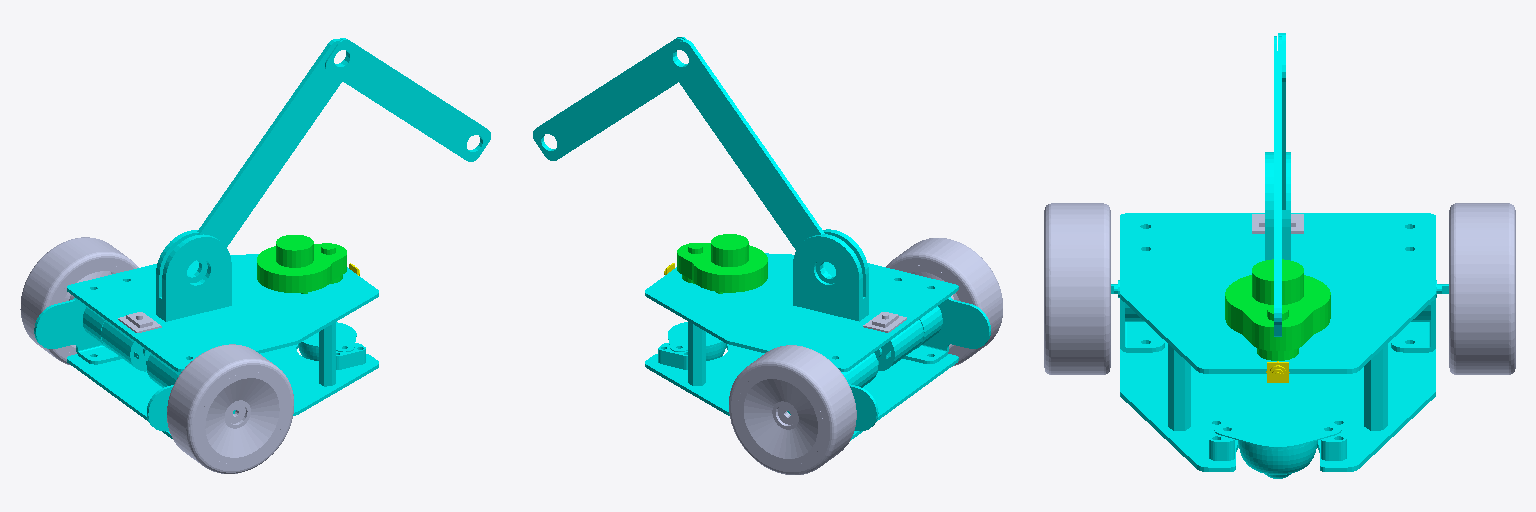
robot.urdf — xerobotvisai2:
<?xml version="1.0" encoding="utf-8"?>
<!-- This URDF was automatically created by SolidWorks to URDF Exporter! Originally created by [author] ([email redacted]) 
     Commit Version: 1.6.0-4-g7f85cfe  Build Version: 1.6.7995.38578
     For more information, please see http://wiki.ros.org/sw_urdf_exporter -->
<robot
  name="xerobotvisai2">
  <link
    name="base_link">
    <inertial>
      <origin
        xyz="-0.00884003371869591 -1.69144292938572E-06 0.023380316286157"
        rpy="0 0 0" />
      <mass
        value="0.139616230876785" />
      <inertia
        ixx="7.5183979078754E-05"
        ixy="-2.38192654544776E-10"
        ixz="-4.01410400424682E-09"
        iyy="8.90639372566359E-05"
        iyz="1.37636143194086E-09"
        izz="0.000152236942898235" />
    </inertial>
    <visual>
      <origin
        xyz="0 0 0"
        rpy="0 0 0" />
      <geometry>
        <mesh
          filename="package://xerobotvisai2/meshes/base_link.STL" />
      </geometry>
      <material
        name="">
        <color
          rgba="0 1 1 1" />
      </material>
    </visual>
    <collision>
      <origin
        xyz="0 0 0"
        rpy="0 0 0" />
      <geometry>
        <mesh
          filename="package://xerobotvisai2/meshes/base_link.STL" />
      </geometry>
    </collision>
  </link>
  <link
    name="trai_link">
    <inertial>
      <origin
        xyz="4.32986979603811E-15 4.71844785465692E-16 -0.00925124739800048"
        rpy="0 0 0" />
      <mass
        value="0.0508844489509995" />
      <inertia
        ixx="2.01105522645016E-05"
        ixy="6.35274710440725E-22"
        ixz="-5.50571415715295E-21"
        iyy="2.01105522645016E-05"
        iyz="6.88214269644119E-21"
        izz="3.52318436020648E-05" />
    </inertial>
    <visual>
      <origin
        xyz="0 0 0"
        rpy="0 0 0" />
      <geometry>
        <mesh
          filename="package://xerobotvisai2/meshes/trai_link.STL" />
      </geometry>
      <material
        name="">
        <color
          rgba="0.792156862745098 0.819607843137255 0.933333333333333 1" />
      </material>
    </visual>
    <collision>
      <origin
        xyz="0 0 0"
        rpy="0 0 0" />
      <geometry>
        <mesh
          filename="package://xerobotvisai2/meshes/trai_link.STL" />
      </geometry>
    </collision>
  </link>
  <joint
    name="trai_joint"
    type="continuous">
    <origin
      xyz="-0.03704 0.087854 0.0215"
      rpy="1.5708 1.0391 -3.1416" />
    <parent
      link="base_link" />
    <child
      link="trai_link" />
    <axis
      xyz="0 0 1" />
  </joint>
  <link
    name="phai_link">
    <inertial>
      <origin
        xyz="5.55111512312578E-17 -5.55111512312578E-17 0.00925124739800157"
        rpy="0 0 0" />
      <mass
        value="0.0508844489509995" />
      <inertia
        ixx="2.01105522645016E-05"
        ixy="-4.2351647362715E-21"
        ixz="-1.18584612615602E-20"
        iyy="2.01105522645016E-05"
        iyz="-4.36221967835965E-20"
        izz="3.52318436020648E-05" />
    </inertial>
    <visual>
      <origin
        xyz="0 0 0"
        rpy="0 0 0" />
      <geometry>
        <mesh
          filename="package://xerobotvisai2/meshes/phai_link.STL" />
      </geometry>
      <material
        name="">
        <color
          rgba="0.792156862745098 0.819607843137255 0.933333333333333 1" />
      </material>
    </visual>
    <collision>
      <origin
        xyz="0 0 0"
        rpy="0 0 0" />
      <geometry>
        <mesh
          filename="package://xerobotvisai2/meshes/phai_link.STL" />
      </geometry>
    </collision>
  </link>
  <joint
    name="phai_joint"
    type="continuous">
    <origin
      xyz="-0.03704 -0.086305 0.0215"
      rpy="-1.5708 -0.58656 0" />
    <parent
      link="base_link" />
    <child
      link="phai_link" />
    <axis
      xyz="0 0 1" />
  </joint>
  <link
    name="taymay1_link">
    <inertial>
      <origin
        xyz="-0.066306404998369 -0.0126376681469407 0.00150000000000056"
        rpy="0 0 0" />
      <mass
        value="0.00846438055098076" />
      <inertia
        ixx="7.91868476694563E-07"
        ixy="-2.58979705717387E-06"
        ixz="1.13952401185305E-19"
        iyy="1.38862264082511E-05"
        iyz="2.43786670131628E-20"
        izz="1.46653983141192E-05" />
    </inertial>
    <visual>
      <origin
        xyz="0 0 0"
        rpy="0 0 0" />
      <geometry>
        <mesh
          filename="package://xerobotvisai2/meshes/taymay1_link.STL" />
      </geometry>
      <material
        name="">
        <color
          rgba="0 1 1 1" />
      </material>
    </visual>
    <collision>
      <origin
        xyz="0 0 0"
        rpy="0 0 0" />
      <geometry>
        <mesh
          filename="package://xerobotvisai2/meshes/taymay1_link.STL" />
      </geometry>
    </collision>
  </link>
  <joint
    name="taymay1_joint"
    type="revolute">
    <origin
      xyz="-0.015427 0 0.067"
      rpy="1.5708 1.0391 3.1416" />
    <parent
      link="base_link" />
    <child
      link="taymay1_link" />
    <axis
      xyz="0 0 1" />
    <limit
      lower="-0.5"
      upper="0.5"
      effort="1"
      velocity="1" />
  </joint>
  <link
    name="taymay2_link">
    <inertial>
      <origin
        xyz="0.0148629315605282 0.0512928982262378 -0.00299999999999973"
        rpy="0 0 0" />
      <mass
        value="0.00655937220510258" />
      <inertia
        ixx="6.27286996240315E-06"
        ixy="-1.75023017922502E-06"
        ixz="-1.67289007082724E-20"
        iyy="7.39874090506564E-07"
        iyz="-5.11396141904784E-20"
        izz="7.00276498347422E-06" />
    </inertial>
    <visual>
      <origin
        xyz="0 0 0"
        rpy="0 0 0" />
      <geometry>
        <mesh
          filename="package://xerobotvisai2/meshes/taymay2_link.STL" />
      </geometry>
      <material
        name="">
        <color
          rgba="0 1 1 1" />
      </material>
    </visual>
    <collision>
      <origin
        xyz="0 0 0"
        rpy="0 0 0" />
      <geometry>
        <mesh
          filename="package://xerobotvisai2/meshes/taymay2_link.STL" />
      </geometry>
    </collision>
  </link>
  <joint
    name="taymay2_joint"
    type="revolute">
    <origin
      xyz="-0.13261 -0.025275 0.003"
      rpy="0 0 -2.689" />
    <parent
      link="taymay1_link" />
    <child
      link="taymay2_link" />
    <axis
      xyz="0 0 1" />
    <limit
      lower="-1.57"
      upper="1.57"
      effort="1"
      velocity="1" />
    <dynamics
      damping="0.01"
      friction="0.01" />
  </joint>
  <link
    name="cam_link">
    <inertial>
      <origin
        xyz="0.0010760427325527 0 1.74369141375808E-06"
        rpy="0 0 0" />
      <mass
        value="0.000112892606467818" />
      <inertia
        ixx="9.02305513481435E-10"
        ixy="6.0746076234363E-25"
        ixz="6.16053270333464E-13"
        iyy="5.22135238423374E-10"
        iyz="2.71418638493962E-25"
        izz="5.22136236717182E-10" />
    </inertial>
    <visual>
      <origin
        xyz="0 0 0"
        rpy="0 0 0" />
      <geometry>
        <mesh
          filename="package://xerobotvisai2/meshes/cam_link.STL" />
      </geometry>
      <material
        name="">
        <color
          rgba="1 1 0 1" />
      </material>
    </visual>
    <collision>
      <origin
        xyz="0 0 0"
        rpy="0 0 0" />
      <geometry>
        <mesh
          filename="package://xerobotvisai2/meshes/cam_link.STL" />
      </geometry>
    </collision>
  </link>
  <joint
    name="cam_joint"
    type="fixed">
    <origin
      xyz="0.08096 0 0.042"
      rpy="0.00080435 0.0016205 0" />
    <parent
      link="base_link" />
    <child
      link="cam_link" />
    <axis
      xyz="0 0 0" />
    <limit
      lower="0"
      upper="0"
      effort="0"
      velocity="0" />
  </joint>
  <link
    name="lidar_link">
    <inertial>
      <origin
        xyz="0.0030796201092603 -5.55111512312578E-17 0.00625772986909287"
        rpy="0 0 0" />
      <mass
        value="0.0190134653448062" />
      <inertia
        ixx="1.94902167564129E-06"
        ixy="3.21872519956634E-20"
        ixz="2.1691505996885E-07"
        iyy="3.17269167170879E-06"
        iyz="-5.0821976835258E-21"
        izz="4.11310538100717E-06" />
    </inertial>
    <visual>
      <origin
        xyz="0 0 0"
        rpy="0 0 0" />
      <geometry>
        <mesh
          filename="package://xerobotvisai2/meshes/lidar_link.STL" />
      </geometry>
      <material
        name="">
        <color
          rgba="0 1 0.250980392156863 1" />
      </material>
    </visual>
    <collision>
      <origin
        xyz="0 0 0"
        rpy="0 0 0" />
      <geometry>
        <mesh
          filename="package://xerobotvisai2/meshes/lidar_link.STL" />
      </geometry>
    </collision>
  </link>
  <joint
    name="lidar_joint"
    type="fixed">
    <origin
      xyz="0.046316 0 0.048"
      rpy="0 0 0" />
    <parent
      link="base_link" />
    <child
      link="lidar_link" />
    <axis
      xyz="0 0 0" />
  </joint>
  <link
    name="gps_link">
    <inertial>
      <origin
        xyz="0 -5.55111512312578E-17 0.00125777206333164"
        rpy="0 0 0" />
      <mass
        value="0.000523999999999999" />
      <inertia
        ixx="1.42057330840943E-08"
        ixy="-1.63574966132361E-22"
        ixz="2.06795153138257E-24"
        iyy="7.3667330840943E-09"
        iyz="2.06795153138257E-25"
        izz="2.04783333333332E-08" />
    </inertial>
    <visual>
      <origin
        xyz="0 0 0"
        rpy="0 0 0" />
      <geometry>
        <mesh
          filename="package://xerobotvisai2/meshes/gps_link.STL" />
      </geometry>
      <material
        name="">
        <color
          rgba="0.792156862745098 0.819607843137255 0.933333333333333 1" />
      </material>
    </visual>
    <collision>
      <origin
        xyz="0 0 0"
        rpy="0 0 0" />
      <geometry>
        <mesh
          filename="package://xerobotvisai2/meshes/gps_link.STL" />
      </geometry>
    </collision>
  </link>
  <joint
    name="gps_joint"
    type="fixed">
    <origin
      xyz="-0.048243 0 0.043"
      rpy="0 0 0" />
    <parent
      link="base_link" />
    <child
      link="gps_link" />
    <axis
      xyz="0 0 0" />
  </joint>
  <gazebo>
    <plugin name="differential_drive_controller" filename="libgazebo_ros_diff_drive.so">
      <updateRate>50</updateRate>
      <leftJoint>trai_joint</leftJoint>
      <rightJoint>phai_joint</rightJoint>
      <wheelSeparation>0.5380</wheelSeparation>
      <wheelDiameter>0.2410</wheelDiameter>
      <wheelAcceleration>1.0</wheelAcceleration>
      <wheelTorque>20</wheelTorque>
      <commandTopic>cmd_vel</commandTopic>
      <odometryTopic>odom</odometryTopic>
      <odometryFrame>odom</odometryFrame>
      <robotBaseFrame>base_link</robotBaseFrame>
      <odometrySource>1</odometrySource>
      <publishWheelTF>true</publishWheelTF>
      <publishOdom>true</publishOdom>
      <publishWheelJointState>true</publishWheelJointState>
      <legacyMode>false</legacyMode>
    </plugin>
  </gazebo>

  <gazebo reference="base_link">
    <material>Gazebo/Turquoise</material>
  </gazebo>
  <gazebo reference="trai_link">
    <material>Gazebo/Black</material>
    </gazebo>
  <gazebo reference="phai_link">
    <material>Gazebo/Black</material>
    </gazebo>
  <gazebo reference="taymay1_link">
    <material>Gazebo/Blue</material>
    </gazebo>
  <gazebo reference="taymay2_link">
    <material>Gazebo/Blue</material>
    </gazebo>
  <gazebo reference="cam_link">
    <material>Gazebo/Yellow</material>
    </gazebo>
  <gazebo reference="gps_link">
    <material>Gazebo/Green</material>
    </gazebo>
  <gazebo reference="lidar_link">
    <material>Gazebo/Red</material>
  </gazebo>

  <gazebo reference="cam_link">
    <sensor type="camera" name="camera1">
      <update_rate>30.0</update_rate>
      <camera name="head">
        <horizontal_fov>1.3962634</horizontal_fov>
        <image>
          <width>800</width>
          <height>800</height>
          <format>R8G8B8</format>
        </image>
        <clip>
          <near>0.02</near>
          <far>300</far>
        </clip>
        <noise>
          <type>gaussian</type>
          <mean>0.0</mean>
          <stddev>0.007</stddev>
        </noise>
      </camera>
      <plugin name="camera_controller" filename="libgazebo_ros_camera.so">
        <alwaysOn>true</alwaysOn>
        <updateRate>0.0</updateRate>
        <cameraName>rrbot/camera1</cameraName>
        <imageTopicName>image_raw</imageTopicName>
        <cameraInfoTopicName>camera_info</cameraInfoTopicName>
        <frameName>camera_link</frameName>
        <hackBaseline>0.07</hackBaseline>
        <distortionK1>0.0</distortionK1>
        <distortionK2>0.0</distortionK2>
        <distortionK3>0.0</distortionK3>
        <distortionT1>0.0</distortionT1>
        <distortionT2>0.0</distortionT2>
      </plugin>
    </sensor>
  </gazebo>

  <gazebo reference="lidar_link">
      <sensor type="ray" name="lidar_sensor">
        <pose>0 0 0 0 0 0</pose>
        <visualize>true</visualize>
        <update_rate>30</update_rate>
        <ray>
          <scan>
            <horizontal>
              <samples>720</samples>
              <resolution>1</resolution>
              <min_angle>-1.5708</min_angle>
              <max_angle>1.5708</max_angle>
            </horizontal>
          </scan>
          <range>
            <min>0.1</min>
            <max>30.0</max>
            <resolution>0.01</resolution>
          </range>
          <noise>
            <type>gaussian</type>
            <mean>0.0</mean>
            <stddev>0.01</stddev>
          </noise>
        </ray>
        <plugin name="gazebo_ros_laser" filename="libgazebo_ros_laser.so">
          <topicName>/scan</topicName>
          <frameName>lidar_link</frameName>
        </plugin>
      </sensor>
  </gazebo>

  <gazebo>
    <plugin name="gazebo_ros_gps" filename="libhector_gazebo_ros_gps.so">
      <updateRate>4.0</updateRate>
      <bodyName>gps_link</bodyName>
      <frameId>gps_link</frameId>
      <topicName>/gps/fix</topicName>
      <velocityTopicName>/gps/fix_velocity</velocityTopicName>
      <referenceLatitude>-30.06022459407145675</referenceLatitude>
      <referenceLongitude>-51.173913575780311191</referenceLongitude>
      <referenceHeading>90</referenceHeading>
      <referenceAltitude>10</referenceAltitude>
      <offset>0 0 0</offset>
      <drift>0.001 0.001 0.001</drift>
      <gaussianNoise>0.05 0.05 0.05</gaussianNoise>
      <velocityDrift>0.001 0.001 0.001</velocityDrift>
      <velocityGaussianNoise>0.5 0.5 0.5</velocityGaussianNoise>
    </plugin>
  </gazebo>

<transmission name="taymay1_joint_transmission">
    <type>transmission_interface/SimpleTransmission</type>
    <joint name="taymay1_joint">
      <hardwareInterface>hardware_interface/PositionJointInterface</hardwareInterface>
    </joint>
    <actuator name="link1_servo">
      <mechanicalReduction>1.0</mechanicalReduction>
    </actuator>
</transmission>

<transmission name="taymay2_joint_transmission">
    <type>transmission_interface/SimpleTransmission</type>
    <joint name="taymay2_joint">
      <hardwareInterface>hardware_interface/PositionJointInterface</hardwareInterface>
    </joint>
    <actuator name="link2_servo">
      <mechanicalReduction>1.0</mechanicalReduction>
    </actuator>
</transmission>
  

  <gazebo>
    <plugin name="gazebo_ros_control" filename="libgazebo_ros_control.so">
      <robotNamespace>/</robotNamespace>
      <robotSimType>gazebo_ros_control/DefaultRobotHWSim</robotSimType>
      <legacyModeNS>false</legacyModeNS>
      <controlPeriod>0.001</controlPeriod>
    </plugin>
  </gazebo>
</robot>

--- Facts derived from the render (not from the file) ---
3 views of the same robot in one strip: view 1: azimuth 30°, elevation 25°; view 2: azimuth 150°, elevation 25°; view 3: azimuth 270°, elevation 25° (orthographic).
Model xerobotvisai2 with 8 links and 7 joints (2 revolute, 2 continuous, 3 fixed), rooted at base_link, posed all joints at 0.
Visible links, largest first — view 1: base_link, phai_link, taymay1_link, taymay2_link, trai_link, lidar_link, gps_link; view 2: base_link, trai_link, taymay1_link, taymay2_link, phai_link, lidar_link, gps_link; view 3: base_link, trai_link, phai_link, lidar_link, taymay2_link, taymay1_link.
Boxes of the visible links, x1,y1,x2,y2 form: base_link: [34, 230, 378, 438]; phai_link: [167, 344, 293, 473]; taymay1_link: [186, 39, 348, 282]; taymay2_link: [325, 38, 490, 161]; trai_link: [20, 237, 138, 364]; lidar_link: [257, 235, 346, 293]; gps_link: [118, 312, 161, 332]; base_link: [645, 229, 990, 440]; trai_link: [729, 345, 856, 474]; taymay1_link: [664, 39, 838, 283]; taymay2_link: [533, 37, 687, 160]; phai_link: [886, 238, 1002, 366]; lidar_link: [677, 234, 767, 293]; gps_link: [863, 312, 906, 332]; base_link: [1111, 152, 1448, 478]; trai_link: [1449, 203, 1515, 374]; phai_link: [1044, 203, 1110, 374]; lidar_link: [1225, 259, 1330, 360]; taymay2_link: [1274, 36, 1281, 336]; taymay1_link: [1278, 33, 1285, 209].
Size in the robot's own frame: 0.2414 by 0.1784 by 0.1899 metres.
Meshes: 8 distinct files referenced, 8 mesh visuals loaded (8 binary STL).
